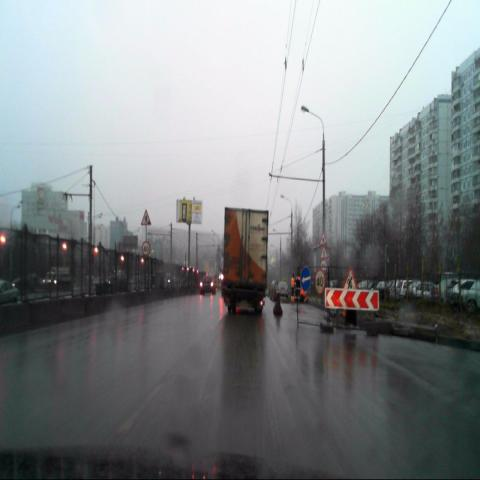4_1_2_2: (300, 267, 310, 291)
